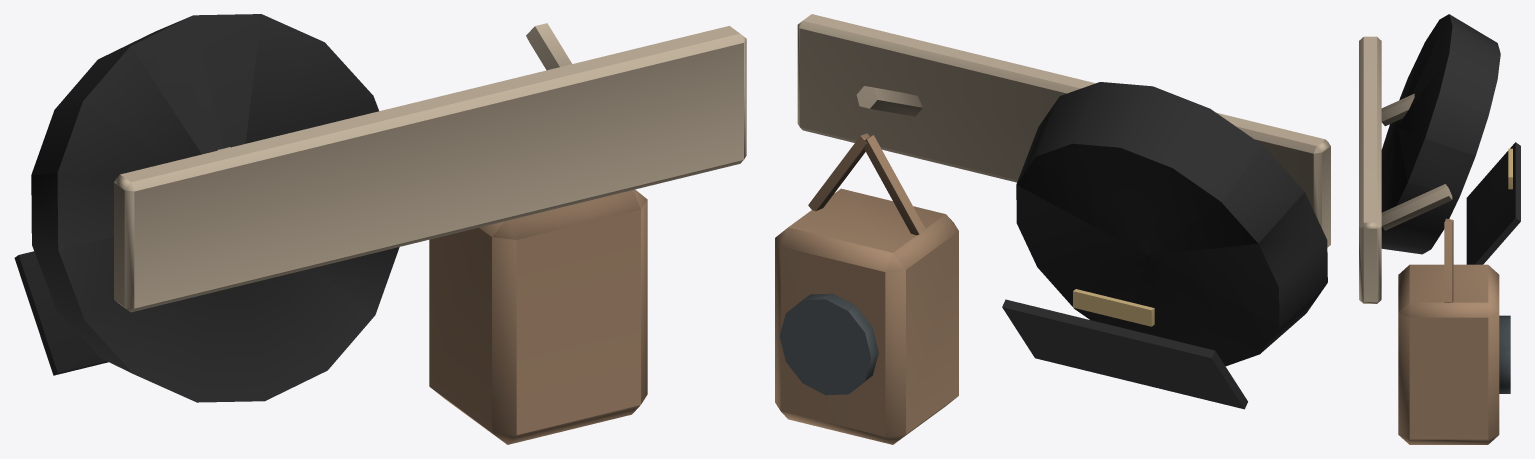
The model's file is cap_hook.glb.
3 renders of one model, left to right at view 1: azimuth 30°, elevation 25°; view 2: azimuth 150°, elevation 25°; view 3: azimuth 270°, elevation 25°, orthographic. The views are drawn at different scales.
Parts seen in each view (by area): view 1: static; view 2: static; view 3: static.
Boxes of the visible parts, <box> form: static: <box>14,14,746,444</box>; static: <box>775,14,1330,444</box>; static: <box>1359,14,1520,444</box>.
Size of the model in its own units: 0.42 by 0.2906 by 0.1441.
